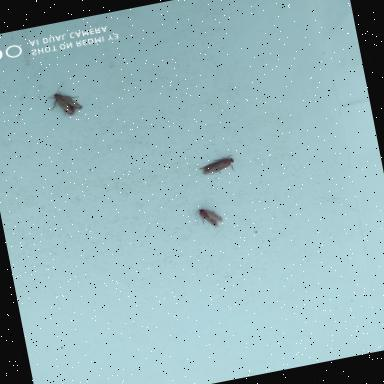pbw: (42, 78, 86, 120), (196, 154, 237, 178), (192, 204, 226, 232)
